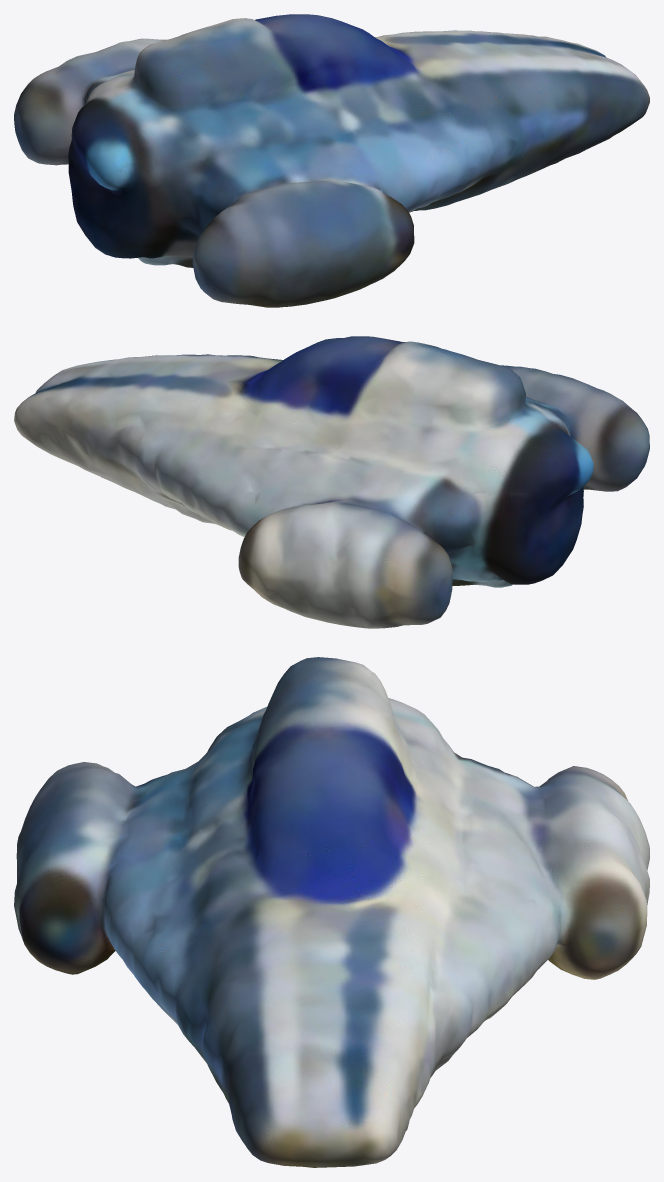
The model's file is spaceship.fbx.
The picture shows the model from 3 angles, top to bottom: view 1: azimuth 30°, elevation 25°; view 2: azimuth 150°, elevation 25°; view 3: azimuth 270°, elevation 25°; orthographic projection. The views are drawn at different scales.
Parts seen in each view (by area): view 1: Mesh1; view 2: Mesh1; view 3: Mesh1.
Part boxes in pixels (box(x1,y1,x2,y2)): Mesh1: box(14, 14, 649, 307); Mesh1: box(14, 336, 649, 628); Mesh1: box(14, 657, 649, 1167).
Bounding box in the file's own units: 120 × 47.67 × 91.85.
1 material, 1 textured.
